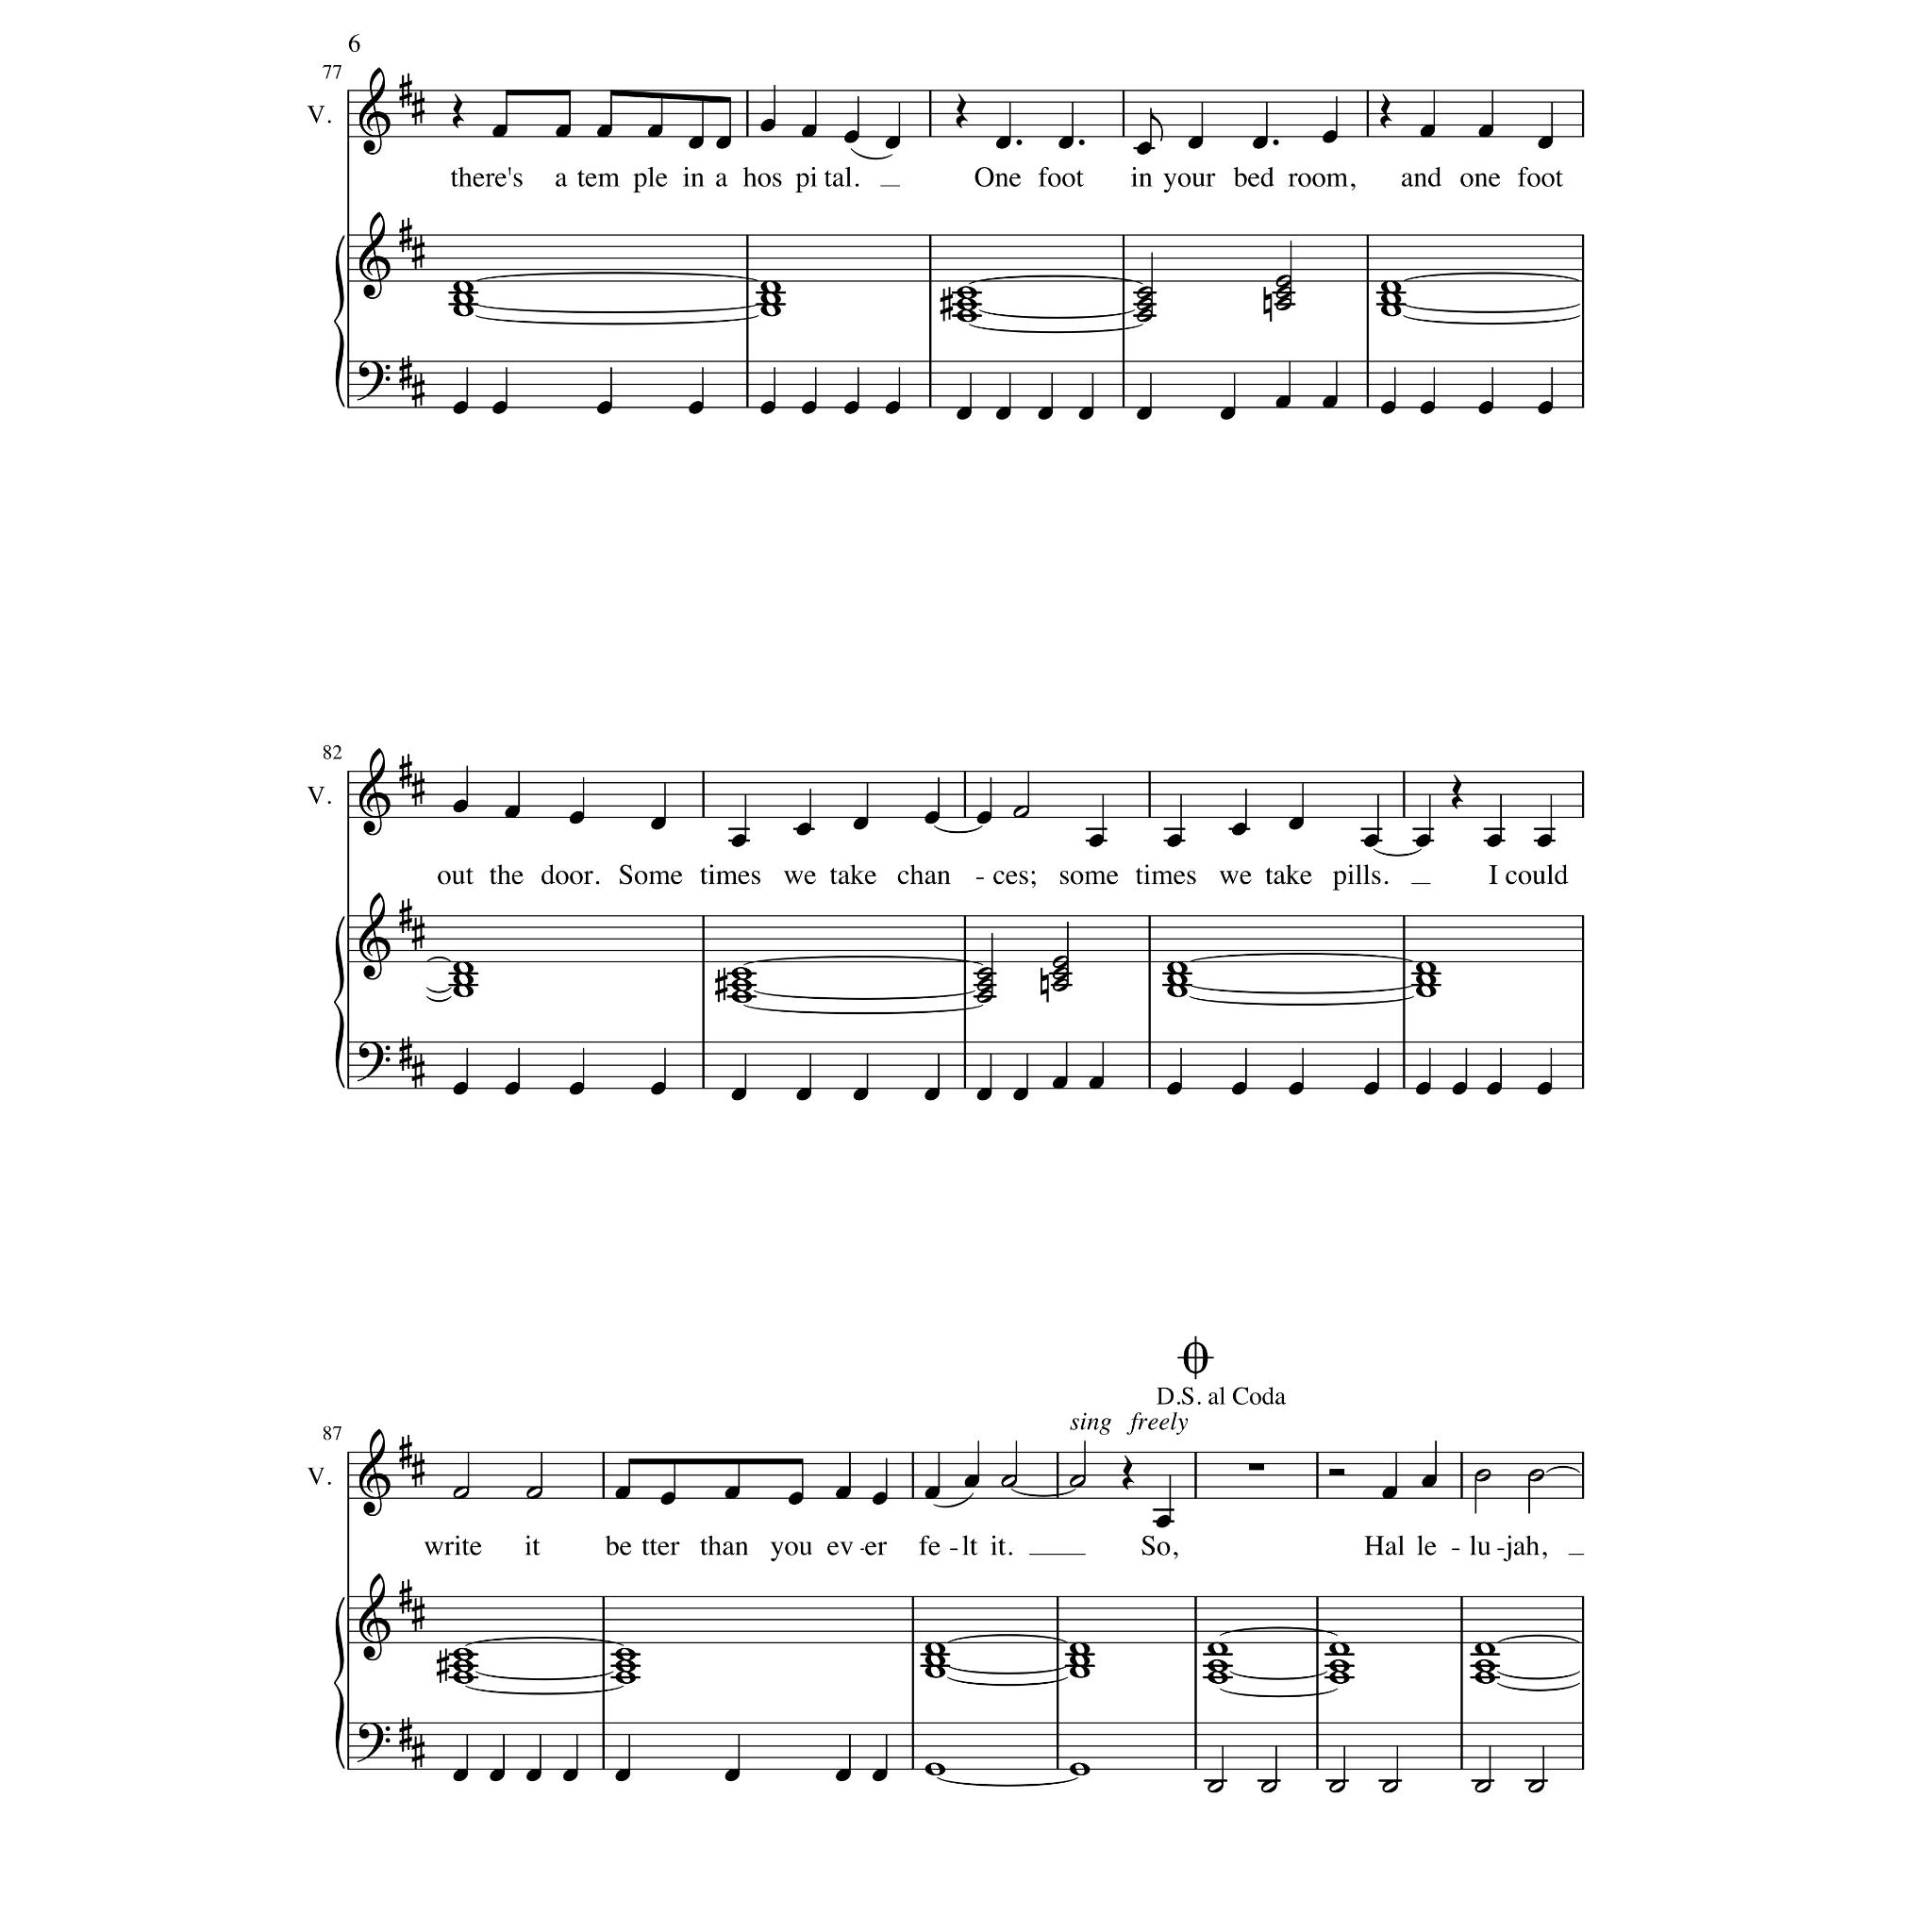brace: (333, 235, 345, 409), (333, 916, 345, 1090), (333, 1596, 345, 1769)
fClef: (357, 361, 391, 402), (357, 1042, 391, 1083), (357, 1721, 391, 1762)
flag8thUp: (1150, 108, 1162, 143)
gClef: (359, 211, 391, 301), (359, 67, 391, 156), (359, 892, 391, 980), (359, 747, 391, 835), (359, 1573, 391, 1661), (359, 1428, 391, 1516)
noteheadBlack: (759, 119, 777, 133), (1219, 407, 1235, 421), (1276, 395, 1292, 409), (1322, 395, 1338, 409), (1322, 131, 1338, 145), (1077, 407, 1093, 421), (1037, 407, 1053, 421), (1136, 407, 1152, 421), (1136, 142, 1152, 156), (1477, 124, 1493, 138), (1419, 124, 1435, 138), (596, 124, 612, 138), (648, 124, 663, 138), (554, 124, 570, 138), (492, 124, 508, 138), (955, 407, 971, 421), (844, 131, 860, 145), (996, 407, 1012, 421), (801, 124, 817, 138), (1415, 833, 1431, 847), (1364, 833, 1380, 847), (1166, 833, 1182, 847), (1088, 1076, 1104, 1090), (1088, 833, 1104, 847), (1051, 1076, 1067, 1090), (1536, 833, 1552, 847), (1486, 833, 1502, 847), (504, 805, 520, 819), (731, 833, 747, 847), (453, 800, 469, 814), (1155, 1514, 1171, 1529), (1421, 1474, 1437, 1488), (1382, 1486, 1398, 1500), (614, 1486, 630, 1500), (924, 1486, 939, 1500), (964, 1474, 980, 1488), (724, 1486, 740, 1500), (835, 1486, 851, 1500), (759, 402, 777, 414), (488, 1769, 506, 1782), (1187, 136, 1203, 149), (1251, 136, 1267, 149), (1058, 136, 1074, 149), (1537, 402, 1553, 414), (1537, 136, 1553, 149), (1380, 402, 1396, 414), (1477, 402, 1493, 414), (1419, 402, 1435, 414), (596, 402, 612, 414), (715, 136, 731, 149), (492, 402, 508, 414), (688, 402, 704, 414), (688, 136, 704, 149), (453, 402, 469, 414), (885, 402, 901, 414), (885, 136, 901, 149), (844, 402, 860, 414), (996, 136, 1012, 149), (801, 402, 817, 414), (1288, 1083, 1304, 1095), (1288, 817, 1304, 830), (1231, 1083, 1247, 1095), (1231, 823, 1247, 835), (1364, 1083, 1380, 1095), (1166, 1083, 1182, 1095), (1536, 1083, 1552, 1095), (1415, 1083, 1431, 1095), (1486, 1083, 1502, 1095), (1451, 1083, 1467, 1095), (651, 1083, 667, 1095), (651, 817, 667, 830), (504, 1083, 520, 1095), (731, 1088, 747, 1100), (453, 1083, 469, 1095), (977, 1088, 993, 1100), (977, 812, 993, 824), (924, 1088, 939, 1100), (1012, 1088, 1028, 1100), (924, 812, 939, 824), (796, 1088, 812, 1100), (796, 823, 812, 835), (853, 1088, 869, 1100), (853, 817, 869, 830), (614, 1769, 630, 1782), (563, 1769, 579, 1782), (525, 1769, 541, 1782), (453, 1769, 469, 1782), (660, 1491, 676, 1504), (724, 1769, 740, 1782), (835, 1769, 851, 1782), (787, 1491, 803, 1504), (870, 1769, 886, 1782), (870, 1491, 886, 1504), (570, 812, 584, 824), (570, 1083, 584, 1095)
noteheadHalf: (1274, 287, 1292, 301), (1274, 297, 1292, 311), (1136, 287, 1154, 301), (1136, 297, 1154, 311), (1012, 805, 1030, 819), (1260, 1780, 1277, 1794), (1207, 1780, 1224, 1794), (1474, 1780, 1491, 1794), (1474, 1468, 1491, 1483), (1527, 1780, 1545, 1794), (1527, 1468, 1545, 1483), (525, 1486, 543, 1500), (451, 1486, 469, 1500), (1069, 1474, 1086, 1488), (1000, 1474, 1017, 1488), (1053, 955, 1069, 970), (1329, 1780, 1345, 1794), (1382, 1780, 1398, 1794), (1274, 276, 1292, 288), (1136, 310, 1154, 322), (1053, 978, 1069, 991), (1053, 968, 1069, 980), (977, 978, 993, 991), (977, 968, 993, 980), (977, 991, 993, 1003)
noteheadWhole: (955, 287, 978, 301), (955, 297, 978, 311), (955, 310, 978, 324), (759, 292, 782, 306), (759, 281, 782, 295), (1166, 961, 1189, 975), (1166, 971, 1189, 985), (1166, 984, 1189, 998), (614, 1660, 637, 1674), (614, 1670, 637, 1684), (924, 1762, 947, 1776), (924, 1642, 947, 1656), (924, 1652, 947, 1667), (924, 1665, 947, 1679), (1069, 1762, 1092, 1776), (1069, 1642, 1092, 1656), (1069, 1652, 1092, 1667), (1069, 1665, 1092, 1679), (1380, 281, 1401, 295), (1380, 292, 1401, 306), (453, 281, 474, 295), (453, 292, 474, 306), (1415, 984, 1437, 998), (1415, 961, 1437, 975), (1415, 971, 1437, 985), (731, 966, 752, 980), (453, 961, 474, 975), (453, 971, 474, 985), (453, 984, 474, 998), (1329, 1642, 1350, 1656), (1329, 1660, 1350, 1674), (1329, 1670, 1350, 1684), (1207, 1642, 1228, 1656), (1207, 1660, 1228, 1674), (1207, 1670, 1228, 1684), (1474, 1642, 1495, 1656), (1474, 1660, 1495, 1674), (1474, 1670, 1495, 1684), (453, 1660, 474, 1674), (453, 1670, 474, 1684), (759, 304, 782, 317), (614, 1649, 637, 1661), (1380, 304, 1401, 317), (453, 304, 474, 317), (731, 978, 752, 991), (731, 991, 752, 1003), (453, 1649, 474, 1661)
restHalf: (1329, 1468, 1345, 1476)
restQuarter: (1380, 94, 1392, 129), (453, 94, 465, 129), (955, 94, 968, 129), (1451, 773, 1463, 809), (1122, 1454, 1134, 1490)
restWhole: (1249, 1463, 1265, 1470)
